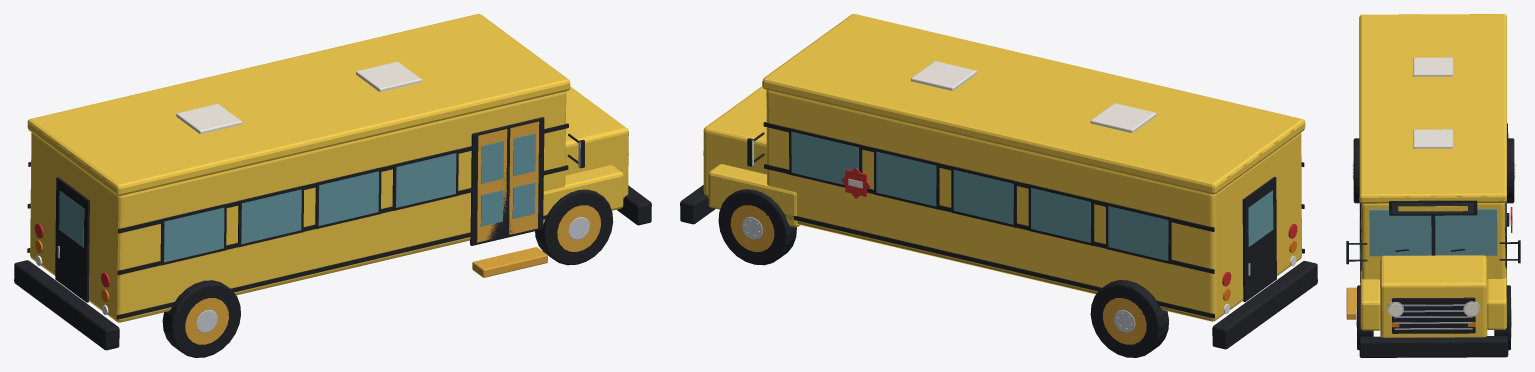
File: School_Bus.fbx
3 views of the same model, side by side, from view 1: azimuth 30°, elevation 25°; view 2: azimuth 150°, elevation 25°; view 3: azimuth 270°, elevation 25° (orthographic). The views are drawn at different scales.
Visible parts, largest first — view 1: Bus_Body, Wheel_RR, Wheel_FR; view 2: Bus_Body, Wheel_RL, Wheel_FL; view 3: Bus_Body, Wheel_RL, Wheel_RR, Wheel_FL, Wheel_FR.
Part boxes in pixels (x1,y1,x2,y2): Bus_Body: [14, 14, 651, 350]; Wheel_RR: [162, 280, 240, 357]; Wheel_FR: [535, 189, 613, 265]; Bus_Body: [680, 14, 1317, 349]; Wheel_RL: [1090, 280, 1168, 357]; Wheel_FL: [718, 189, 796, 265]; Bus_Body: [1346, 14, 1520, 357]; Wheel_RL: [1507, 138, 1515, 203]; Wheel_RR: [1352, 138, 1359, 203]; Wheel_FL: [1494, 285, 1511, 350]; Wheel_FR: [1356, 285, 1373, 350].
Size of the model in its own units: 1097 by 368 by 376.
